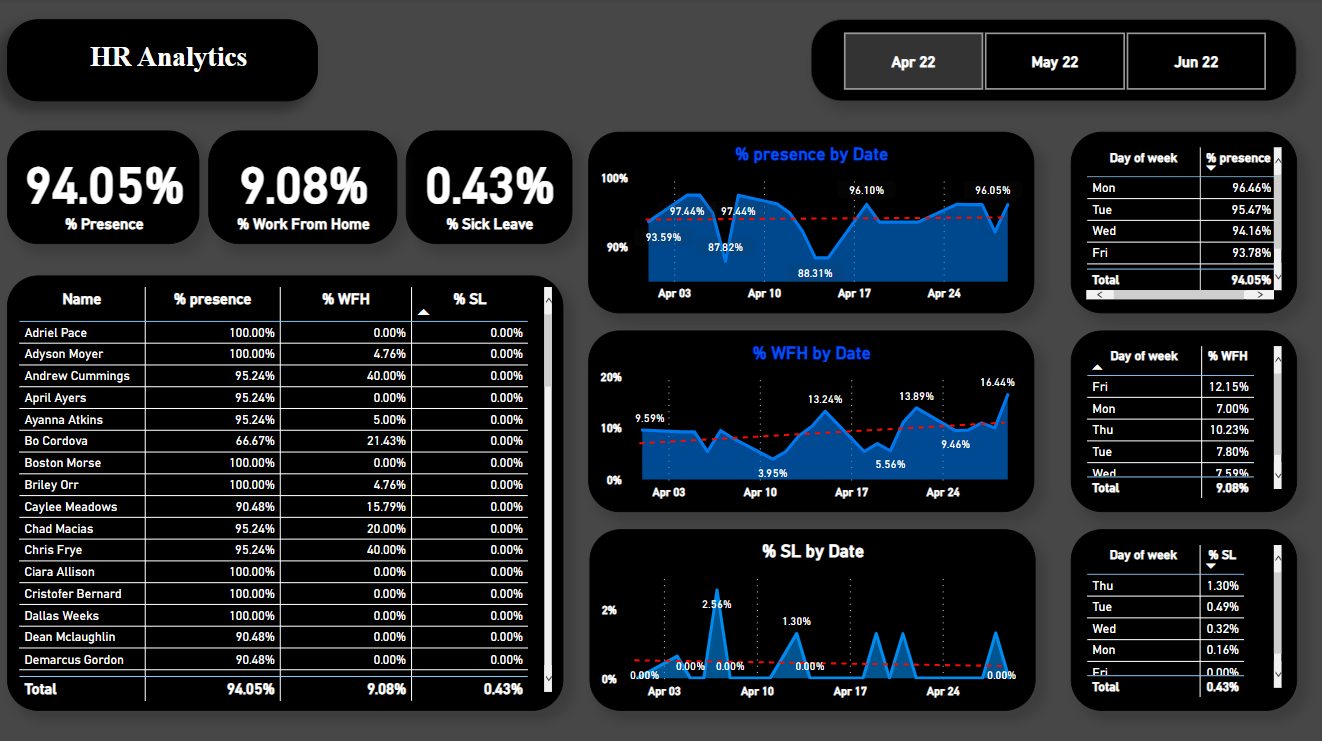

Layout of this report page (visuals, bound fields, positions):
{"tool":"powerbi","page":{"name":"Page 1","canvas":[1280,720],"ordinal":0},"visuals":[{"type":"card","fields":{"Values":["Measure Table.% presence"]},"box":[9.6,127.8,185.7,109.7],"z":0},{"type":"card","fields":{"Values":["Measure Table.% SL"]},"box":[394.4,127.8,160.4,109.7],"z":1000},{"type":"card","fields":{"Values":["Measure Table.% WFH"]},"box":[203.8,127.8,182.1,109.7],"z":2000},{"type":"tableEx","fields":{"Values":["Final Attendance Data.Name","Measure Table.% presence","Measure Table.% WFH","Measure Table.% SL"]},"box":[9.6,267.7,536.7,419.7],"z":3000},{"type":"areaChart","fields":{"Y":["Measure Table.% presence"],"Category":["Final Attendance Data.Date"]},"box":[570.5,129,430,175],"z":4000},{"type":"slicer","fields":{"Values":["Final Attendance Data.Month"]},"box":[785.1,20.5,469.1,79.6],"z":5000},{"type":"areaChart","fields":{"Y":["Measure Table.% WFH"],"Category":["Final Attendance Data.Date"]},"box":[570.5,320.8,430,175],"z":6000},{"type":"areaChart","fields":{"Y":["Measure Table.% SL"],"Category":["Final Attendance Data.Date"]},"box":[571.7,512.6,430,175],"z":7000},{"type":"tableEx","fields":{"Values":["Final Attendance Data.Day of week","Measure Table.% presence"]},"box":[1036,129,218.3,174.9],"z":8000},{"type":"tableEx","fields":{"Values":["Final Attendance Data.Day of week","Measure Table.% WFH"]},"box":[1036,320.8,218.3,174.9],"z":9000},{"type":"tableEx","fields":{"Values":["Final Attendance Data.Day of week","Measure Table.% SL"]},"box":[1036,512.6,218.3,174.9],"z":10000},{"type":"textbox","box":[10,20,300.3,79.6],"z":11000}]}

Visuals, with their boxes in screenshot pixels (x1, y1, x2, y2), scaled from the page's 1280x720 canvas onto the 1322x741 screenshot:
card - Measure Table.% presence: select_region(10, 132, 202, 244)
card - Measure Table.% SL: select_region(407, 132, 573, 244)
card - Measure Table.% WFH: select_region(210, 132, 399, 244)
tableEx - Final Attendance Data.Name x Measure Table.% presence: select_region(10, 276, 564, 707)
areaChart - Measure Table.% presence x Final Attendance Data.Date: select_region(589, 133, 1033, 313)
slicer - Final Attendance Data.Month: select_region(811, 21, 1295, 103)
areaChart - Measure Table.% WFH x Final Attendance Data.Date: select_region(589, 330, 1033, 510)
areaChart - Measure Table.% SL x Final Attendance Data.Date: select_region(590, 528, 1035, 708)
tableEx - Final Attendance Data.Day of week x Measure Table.% presence: select_region(1070, 133, 1295, 313)
tableEx - Final Attendance Data.Day of week x Measure Table.% WFH: select_region(1070, 330, 1295, 510)
tableEx - Final Attendance Data.Day of week x Measure Table.% SL: select_region(1070, 528, 1295, 708)
textbox: select_region(10, 21, 320, 103)
